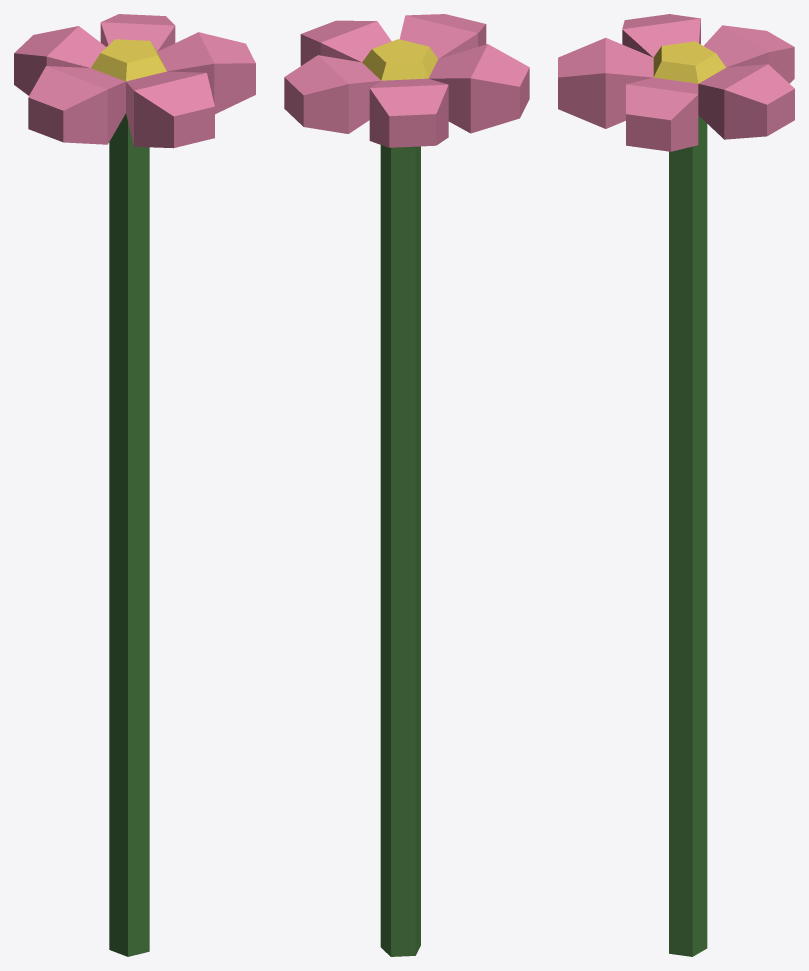
File: CreativeCoding_FlowerPink.fbx
3 views of the same model, side by side, from view 1: azimuth 30°, elevation 25°; view 2: azimuth 150°, elevation 25°; view 3: azimuth 270°, elevation 25° (orthographic).
Visible parts, largest first — view 1: Flower_thiccc; view 2: Flower_thiccc; view 3: Flower_thiccc.
Part boxes in pixels (x1,y1,x2,y2): Flower_thiccc: [14, 14, 255, 956]; Flower_thiccc: [284, 14, 529, 956]; Flower_thiccc: [558, 14, 794, 956].
Bounding box in the file's own units: 625 × 2455 × 589.
